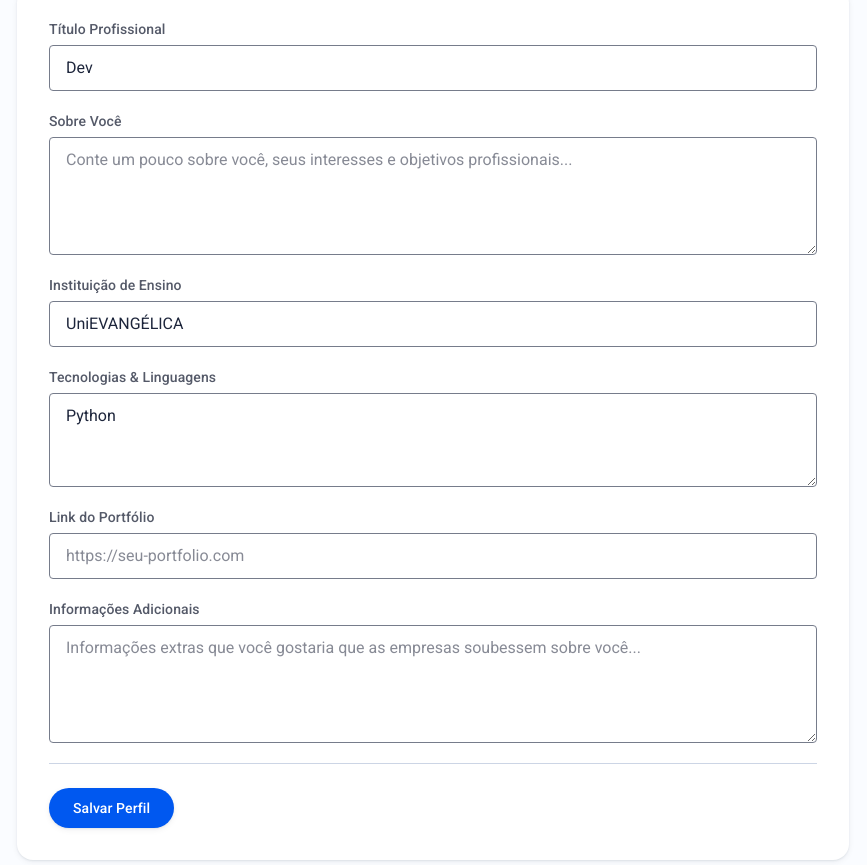
StudentProfileEdit › mostra erro se salvar falhar
(page scrolled)
Click the button "Salvar Perfil" at (112, 808), box [49, 788, 174, 828]
(page scrolled)
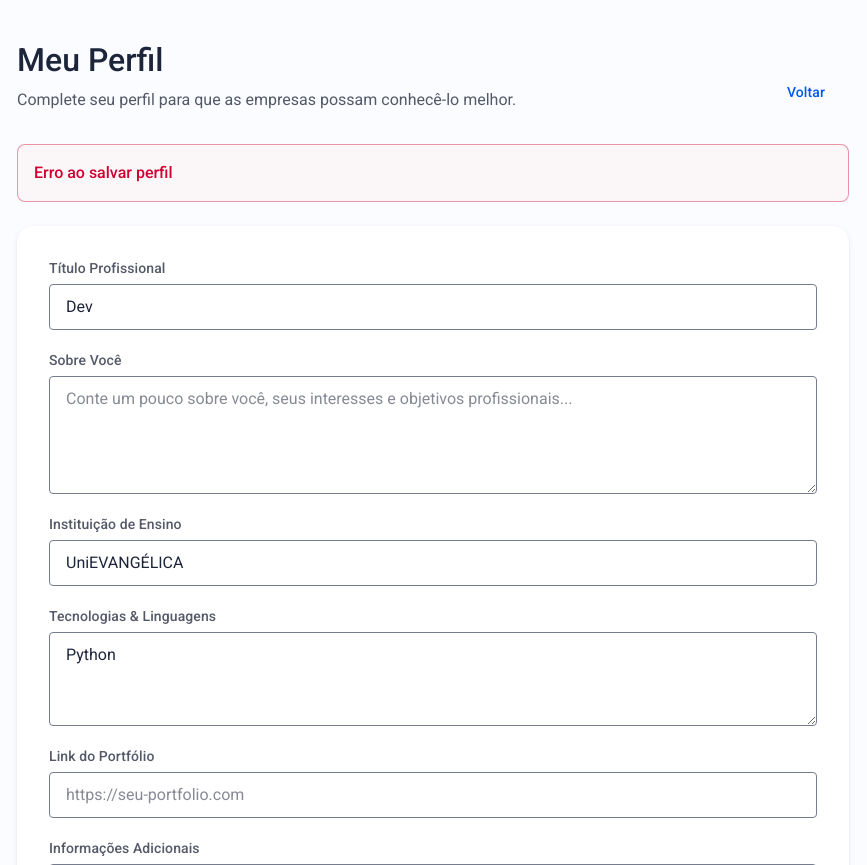
expect the text "Erro ao salvar perfil" is shown: met, box [34, 163, 172, 182]
